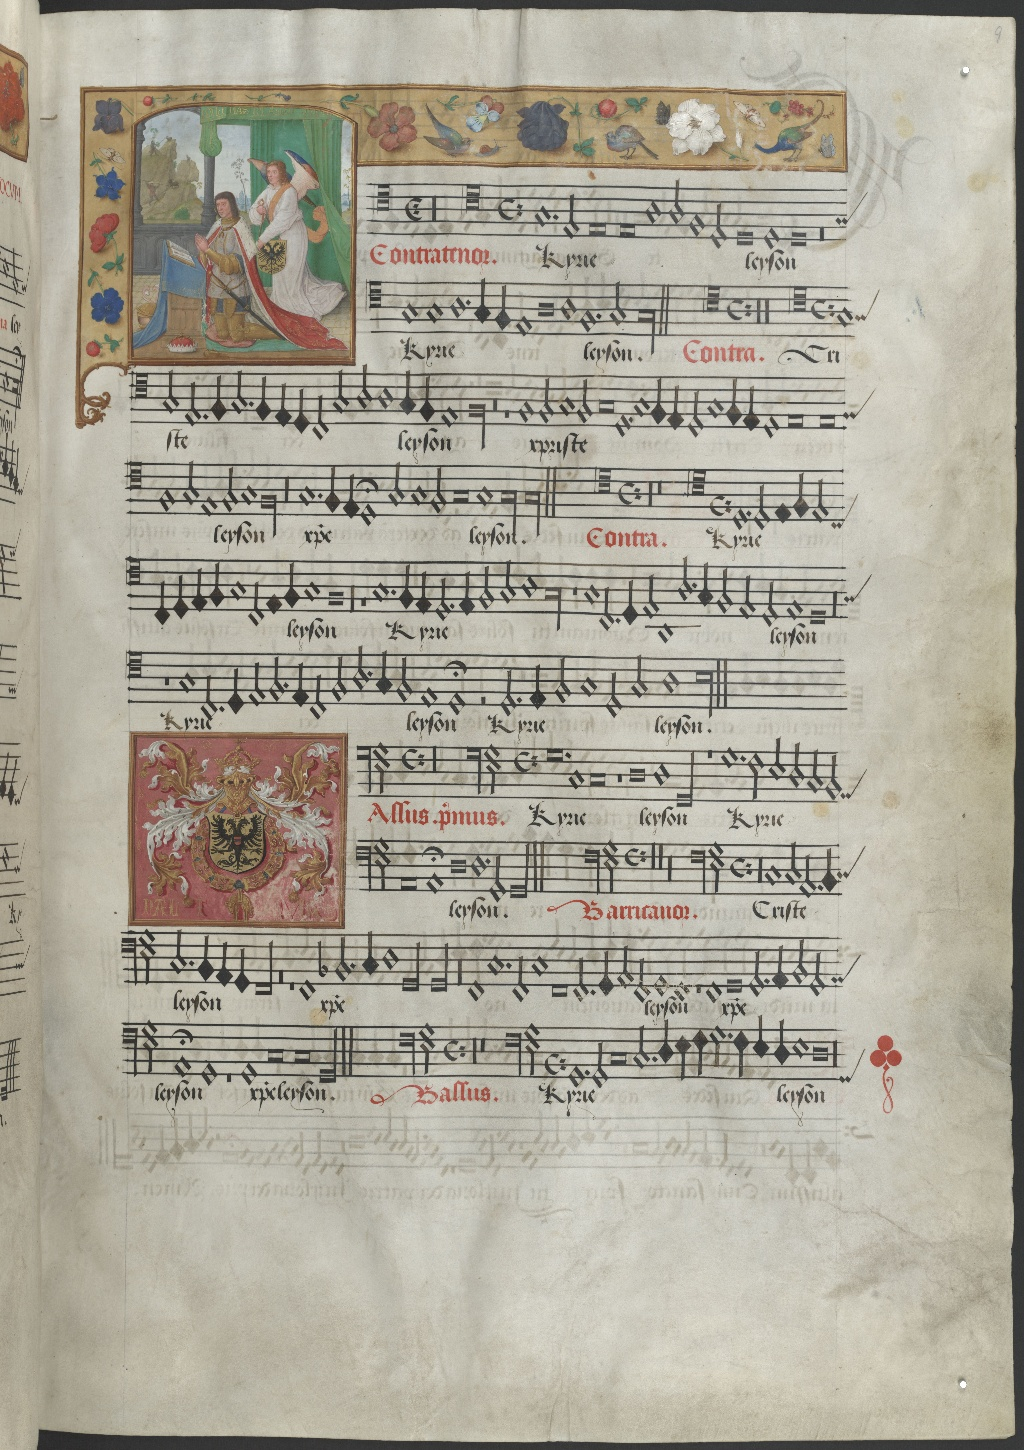breve_11: (805, 601, 831, 631)
breve_9: (322, 582, 347, 614)
c clef_5: (123, 544, 146, 599)
colored semibreve_10: (263, 585, 285, 623)
custos_6: (839, 579, 866, 613)
longa rest: (827, 561, 842, 630), (345, 554, 359, 624)
longa_8: (540, 576, 566, 631)
minim_10: (641, 566, 661, 627), (737, 566, 757, 626)
minim_11: (759, 573, 780, 630), (433, 570, 451, 626)
minim_12: (247, 574, 266, 631), (597, 580, 615, 631)
minim_7: (674, 548, 693, 609)
minim_8: (496, 554, 518, 611)
minim_9: (715, 561, 734, 623), (477, 558, 495, 616)
point: (685, 573, 700, 595), (383, 582, 399, 601), (444, 595, 459, 616), (610, 611, 623, 629)
semibreve rest: (356, 555, 369, 624), (567, 555, 581, 624)
semibreve_10: (784, 592, 807, 627)
semibreve_14: (648, 619, 677, 648)
semibreve_7: (518, 567, 541, 606)
semibreve_8: (301, 572, 322, 611), (369, 572, 390, 611), (227, 572, 248, 609), (580, 576, 601, 614)
semiminim_10: (457, 564, 475, 624), (190, 561, 207, 620), (414, 564, 431, 623)
semiminim_11: (619, 570, 639, 630), (171, 567, 190, 626)
semiminim_12: (151, 572, 170, 630)
semiminim_8: (697, 556, 714, 613)
semiminim_9: (281, 555, 300, 615), (208, 554, 226, 615), (397, 557, 414, 617)
